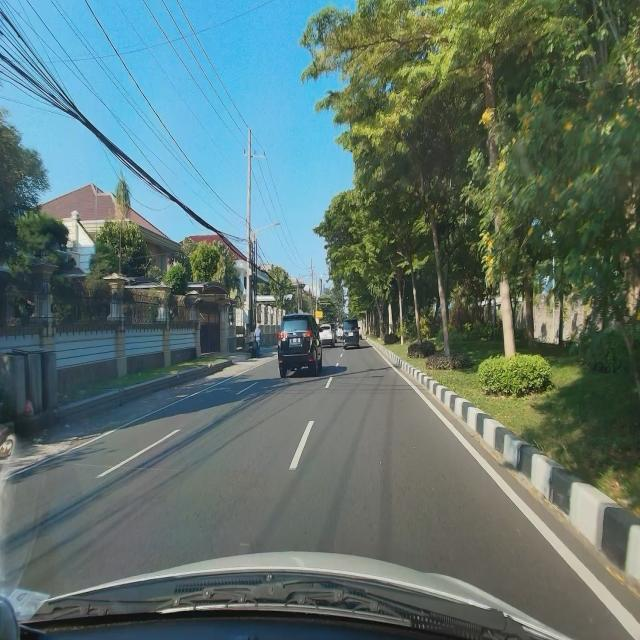car: (277, 312, 323, 379)
license-plate: (290, 338, 301, 345)
